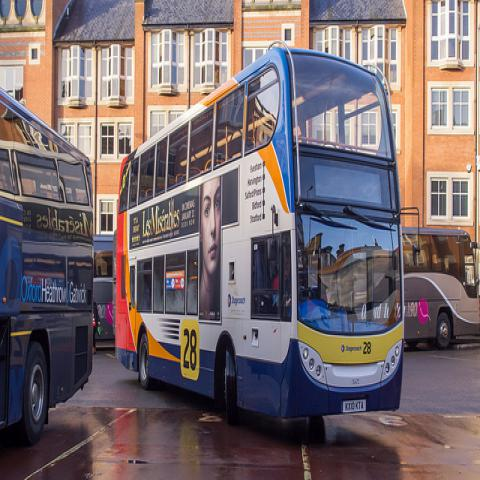bus: (108, 45, 406, 425), (0, 79, 98, 447), (402, 220, 479, 346), (96, 232, 114, 339)
